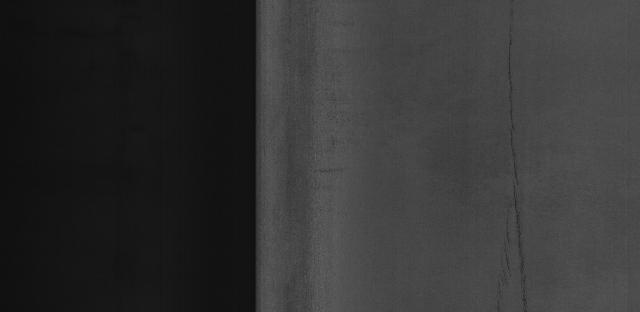inclusion: (491, 7, 532, 311)
